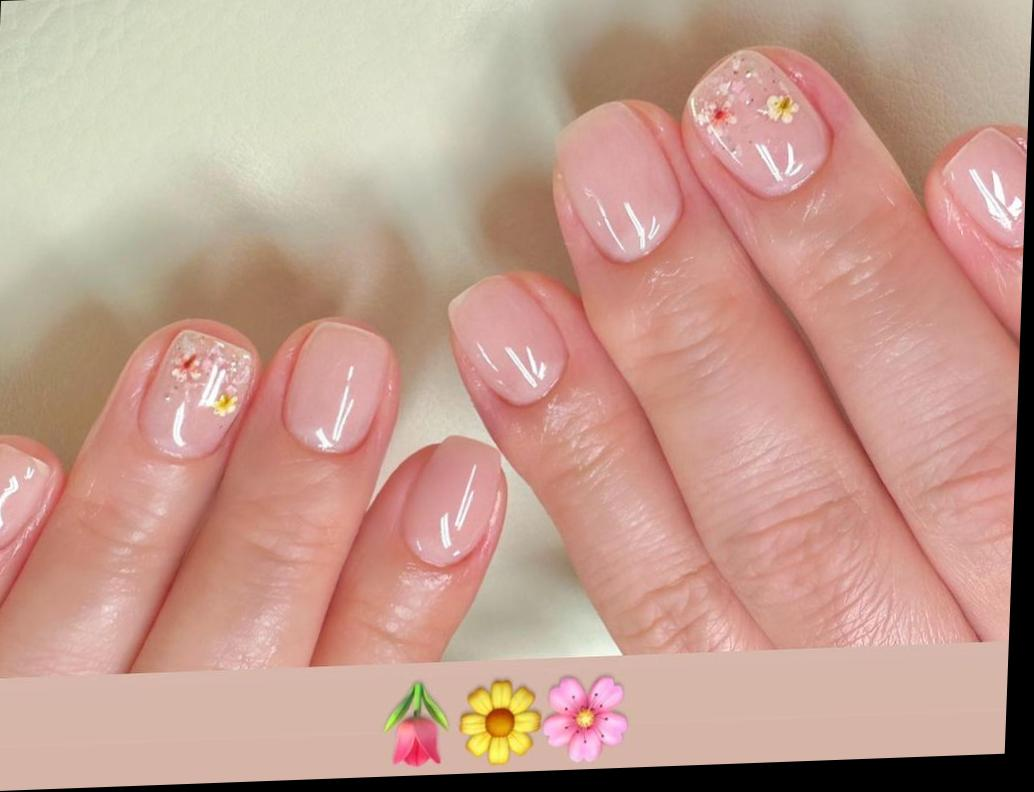nail: (683, 44, 836, 203), (549, 96, 688, 268), (443, 270, 572, 411), (136, 325, 260, 464), (279, 317, 394, 459), (398, 434, 509, 572), (938, 124, 1028, 255), (0, 435, 60, 552)
